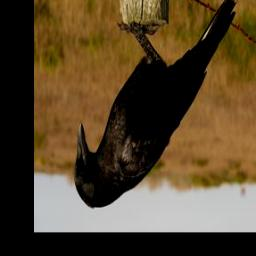Crow: (74, 0, 238, 209)
